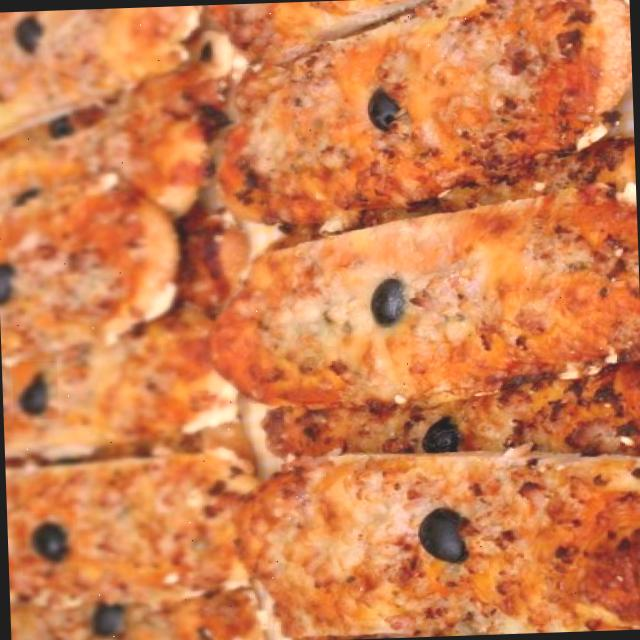Olive: (410, 498, 481, 574), (360, 264, 420, 334), (357, 78, 418, 140), (21, 510, 78, 574), (11, 359, 58, 419), (5, 9, 55, 65), (414, 415, 468, 459), (85, 598, 131, 640), (7, 172, 52, 212), (44, 101, 82, 146), (0, 256, 17, 308)
